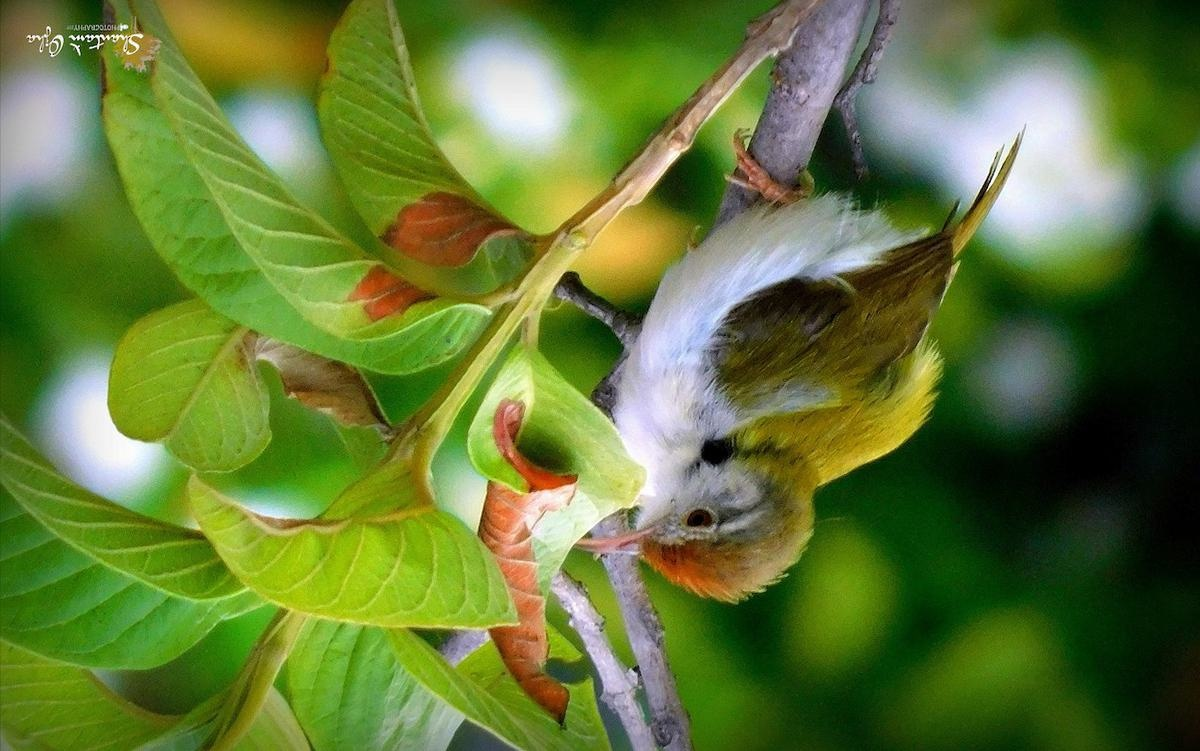tailorbird: (548, 135, 1000, 605)
